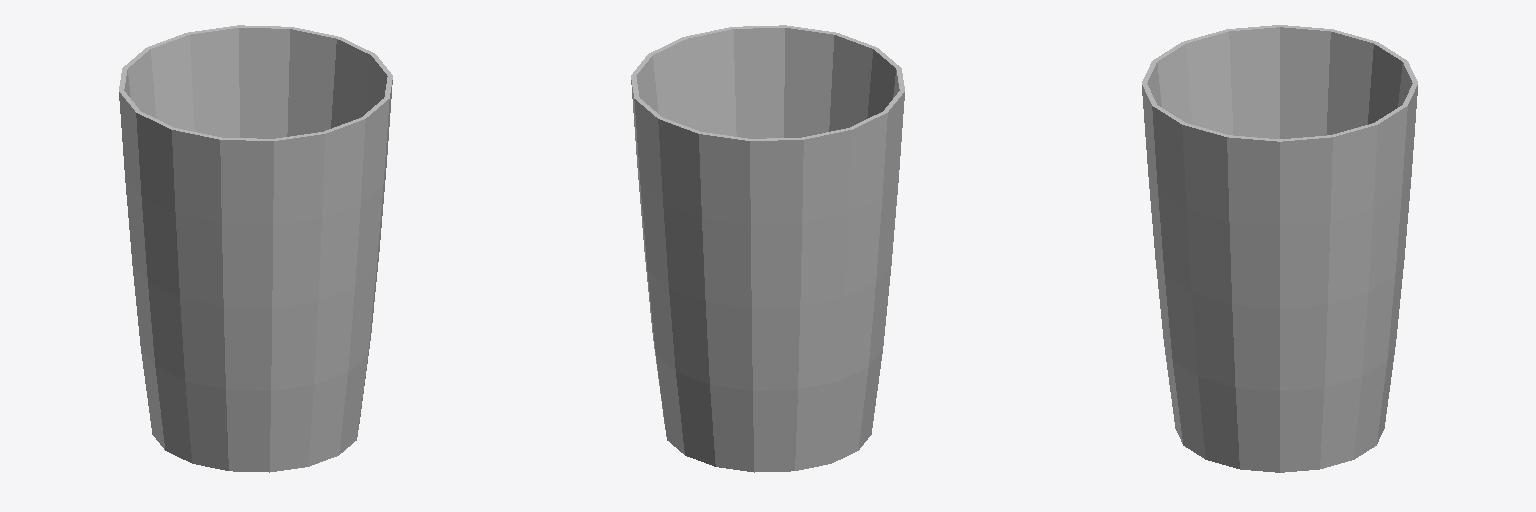
Rendered from medium_cup_textured.obj.
3 views of the same model, side by side, from view 1: azimuth 30°, elevation 25°; view 2: azimuth 150°, elevation 25°; view 3: azimuth 270°, elevation 25° (orthographic).
Visible parts, largest first — view 1: Medium; view 2: Medium; view 3: Medium.
Part boxes in pixels (x1,y1,x2,y2): Medium: (119,25,392,472); Medium: (631,25,904,472); Medium: (1142,25,1417,472).
Bounding box in the file's own units: 0.1186 × 0.1633 × 0.1186.